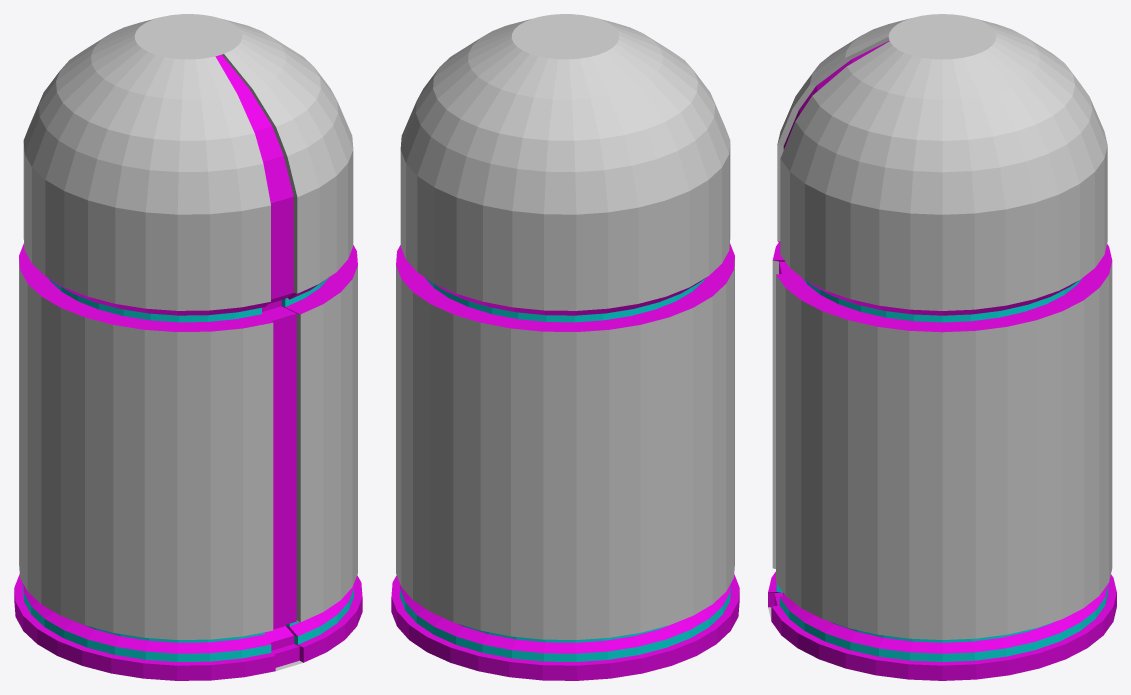
File: launcher-ammo.fbx
3 views of the same model, side by side, from view 1: azimuth 30°, elevation 25°; view 2: azimuth 150°, elevation 25°; view 3: azimuth 270°, elevation 25° (orthographic).
Parts seen in each view (by area): view 1: Cube; view 2: Cube; view 3: Cube.
Part boxes in pixels (box(x1,y1,x2,y2)): Cube: box(14, 14, 362, 680); Cube: box(391, 14, 739, 680); Cube: box(768, 14, 1116, 680).
Bounding box in the file's own units: 205 × 372 × 205.
